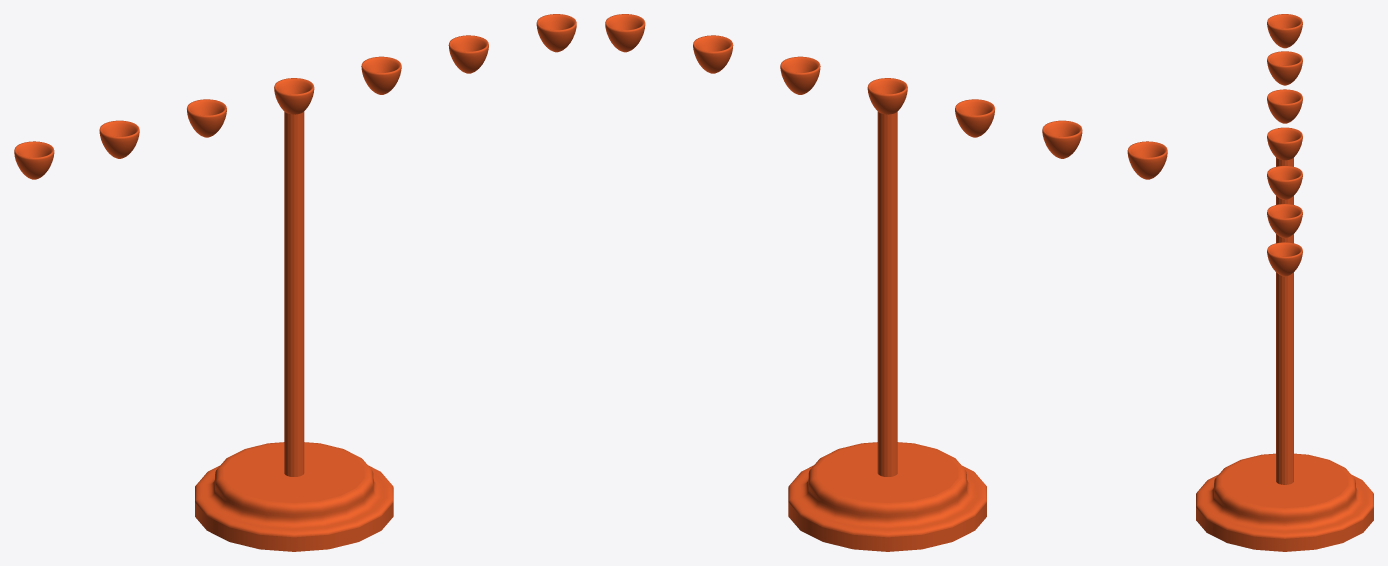
File: CANDELABRA - PUZZLE.fbx
3 views of the same model, side by side, from view 1: azimuth 30°, elevation 25°; view 2: azimuth 150°, elevation 25°; view 3: azimuth 270°, elevation 25° (orthographic). The views are drawn at different scales.
Parts seen in each view (by area): view 1: BASE, Sphere002, Sphere001, Sphere005, Sphere006, Sphere007, Sphere003, Sphere004; view 2: BASE, Sphere002, Sphere001, Sphere005, Sphere006, Sphere007, Sphere003, Sphere004; view 3: BASE, Sphere002, Sphere007, Sphere003, Sphere001, Sphere005, Sphere006, Sphere004.
Part boxes in pixels (x1,y1,x2,y2): BASE: (195,111,393,551); Sphere002: (99,120,139,158); Sphere001: (14,141,54,179); Sphere005: (361,56,401,94); Sphere006: (448,35,488,73); Sphere007: (536,14,576,52); Sphere003: (187,99,226,137); Sphere004: (274,78,314,114); BASE: (788,111,986,551); Sphere002: (1042,120,1082,158); Sphere001: (1127,141,1167,179); Sphere005: (780,56,820,94); Sphere006: (693,35,733,73); Sphere007: (605,14,645,52); Sphere003: (955,99,994,137); Sphere004: (867,78,907,114); BASE: (1196,157,1373,551); Sphere002: (1267,51,1302,85); Sphere007: (1267,242,1302,276); Sphere003: (1267,89,1302,123); Sphere001: (1267,14,1302,48); Sphere005: (1267,165,1302,199); Sphere006: (1267,204,1302,238); Sphere004: (1267,127,1302,160).
Size of the model in its own units: 63.83 by 46.29 by 19.7.
